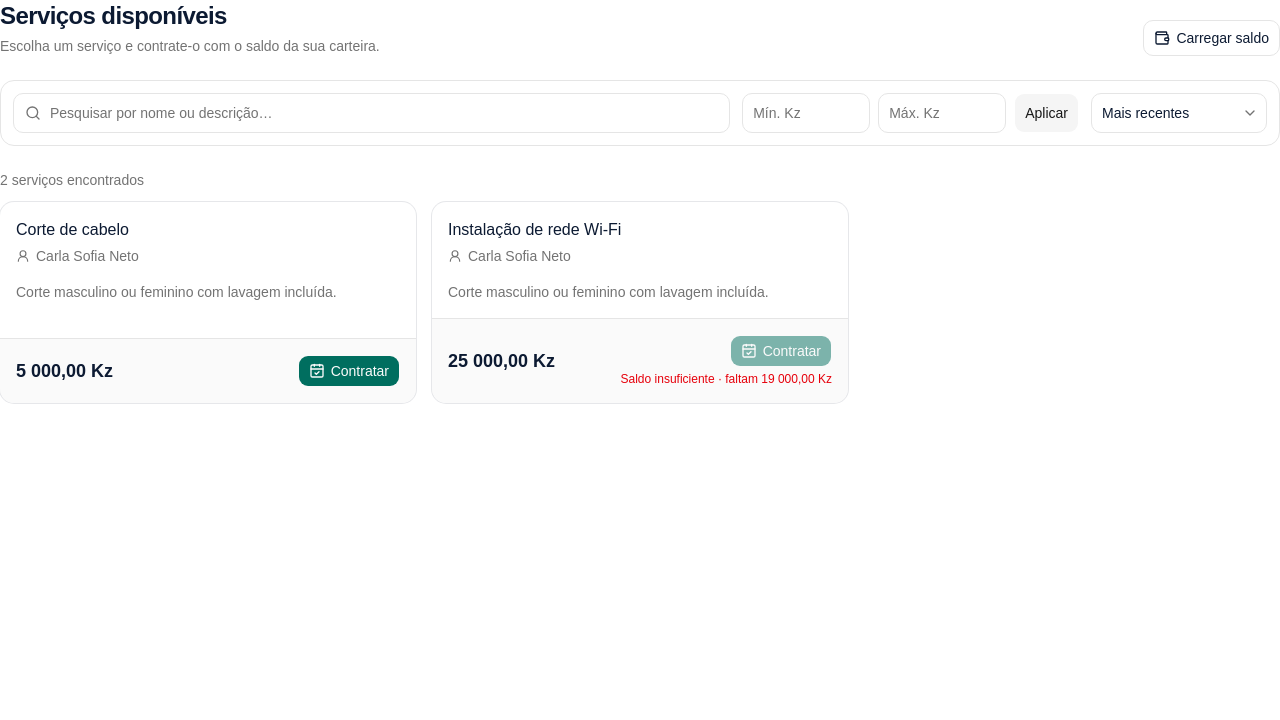
Scenario: CatalogPage › trata o 409 INSUFFICIENT_BALANCE da API (a autoridade é o servidor)
Click the button with aria-label "Contratar Corte de cabelo": (349, 371) [298,355,400,387]
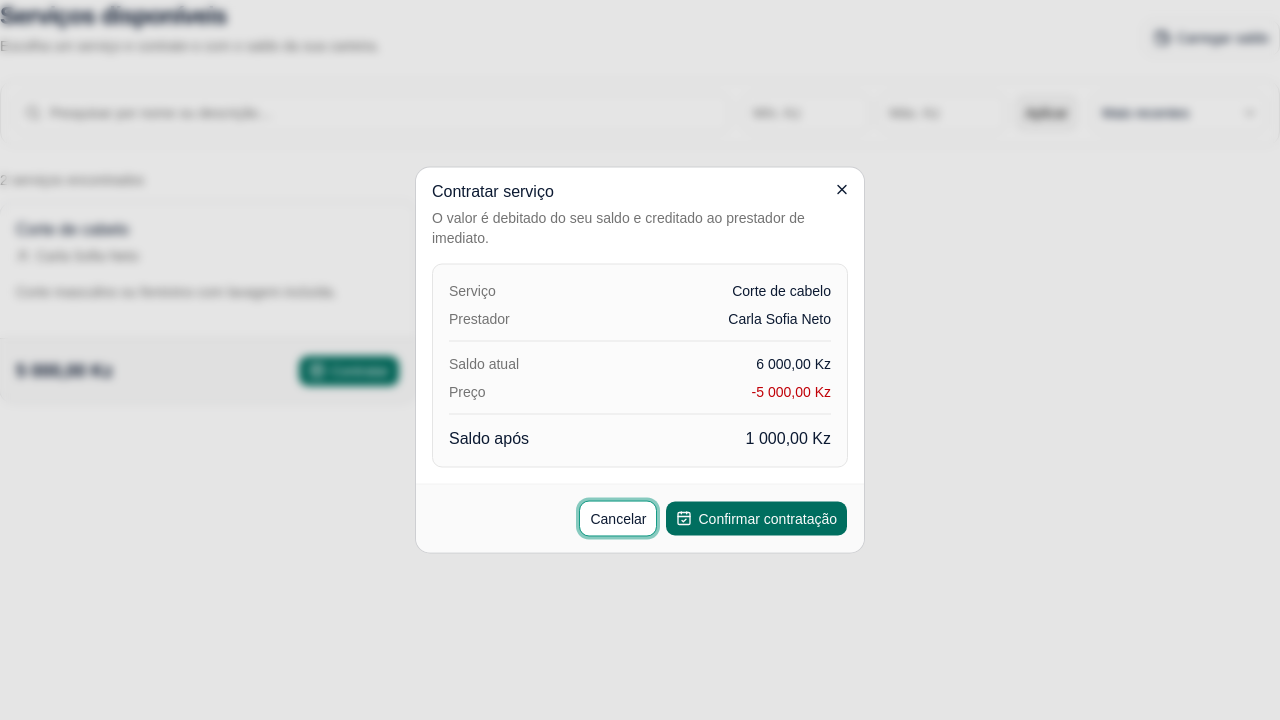
Click the button "Confirmar contratação": (757, 518) [666,500,848,536]
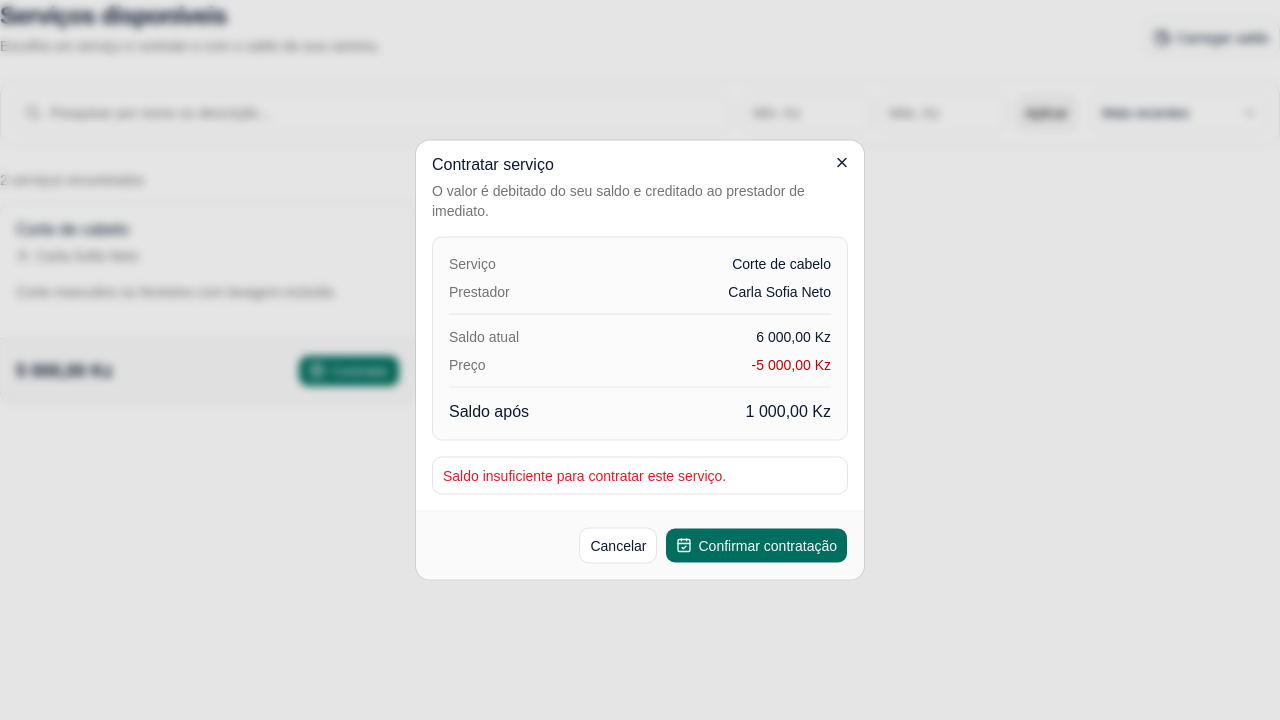
Expected: the text "Saldo insuficiente para contratar este serviço." is shown, [443,468,726,484]
